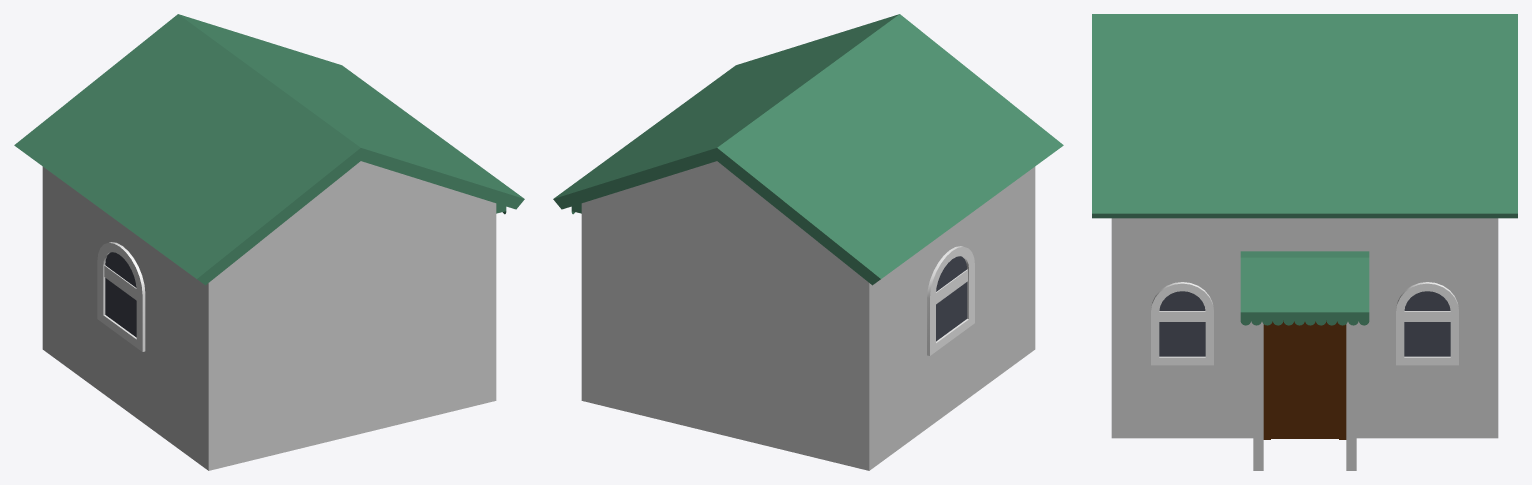
Rendered from house 2.model.fbx.
3 views of the same model, side by side, from view 1: azimuth 30°, elevation 25°; view 2: azimuth 150°, elevation 25°; view 3: azimuth 270°, elevation 25° (orthographic). The views are drawn at different scales.
Parts seen in each view (by area): view 1: block_0, roof_2, window_rounded_16; view 2: block_0, roof_2, window_rounded_16; view 3: roof_2, block_0, door_low_10, awning_12, window_rounded_13, window_rounded_14, columns_11.
Boxes of the visible parts, <box> form: block_0: <box>42,166,496,470</box>; roof_2: <box>14,14,524,285</box>; window_rounded_16: <box>97,242,145,351</box>; block_0: <box>581,166,1035,470</box>; roof_2: <box>553,14,1063,285</box>; window_rounded_16: <box>927,246,974,355</box>; roof_2: <box>1092,14,1517,218</box>; block_0: <box>1111,218,1498,438</box>; door_low_10: <box>1263,320,1346,439</box>; awning_12: <box>1240,251,1369,325</box>; window_rounded_13: <box>1151,282,1213,365</box>; window_rounded_14: <box>1396,282,1458,365</box>; columns_11: <box>1253,322,1356,470</box>.
Size of the model in its own units: 38.9 by 29.3 by 33.
